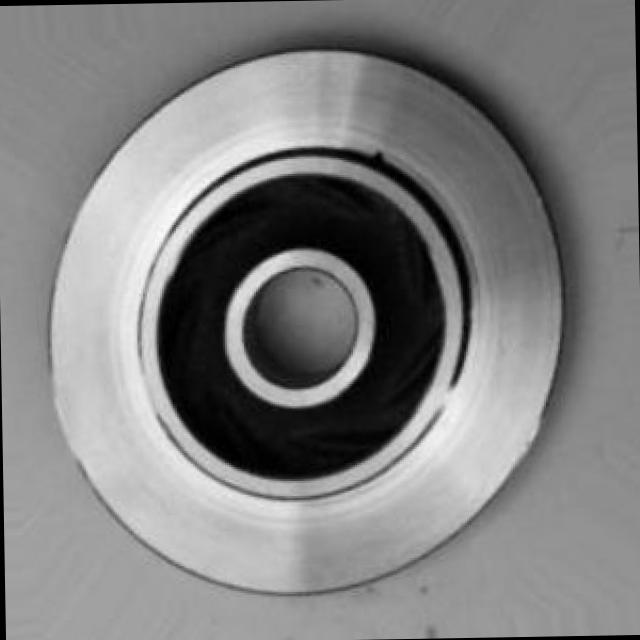Defect: (372, 150, 394, 164)
